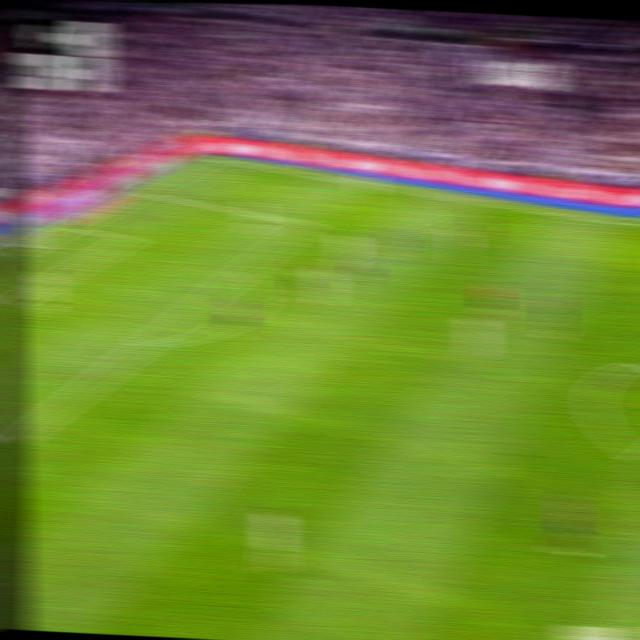bigarea_bottom_inner: (6, 425, 30, 450)
bigarea_top_inner: (296, 216, 316, 229)
bigarea_top_outter: (133, 185, 151, 196)
bottom_arc_area_intersection: (135, 332, 160, 351)
corner: (201, 153, 220, 160)
smallarea_top_inner: (118, 233, 136, 243)
top_arc_area_intersection: (234, 263, 254, 277)
